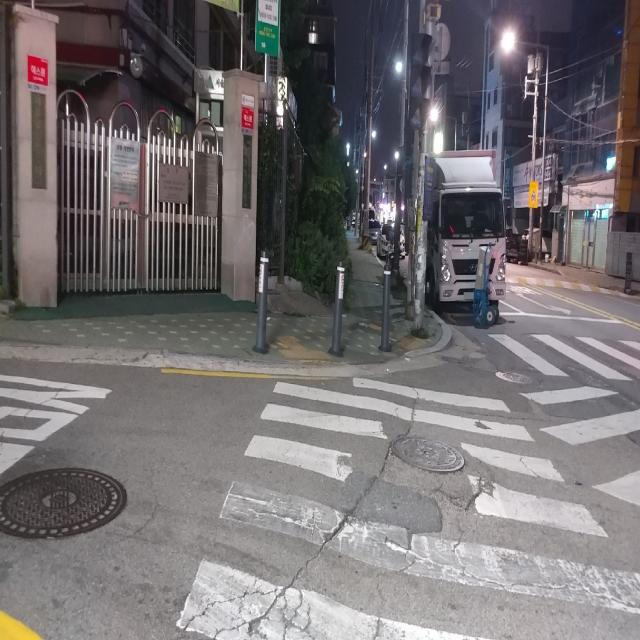횡단보도: (175, 375, 640, 639), (491, 332, 640, 393)
